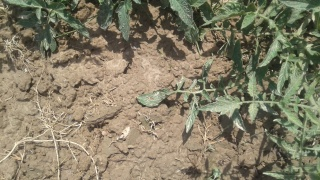tomato plant: (213, 3, 320, 152), (8, 1, 305, 31)
